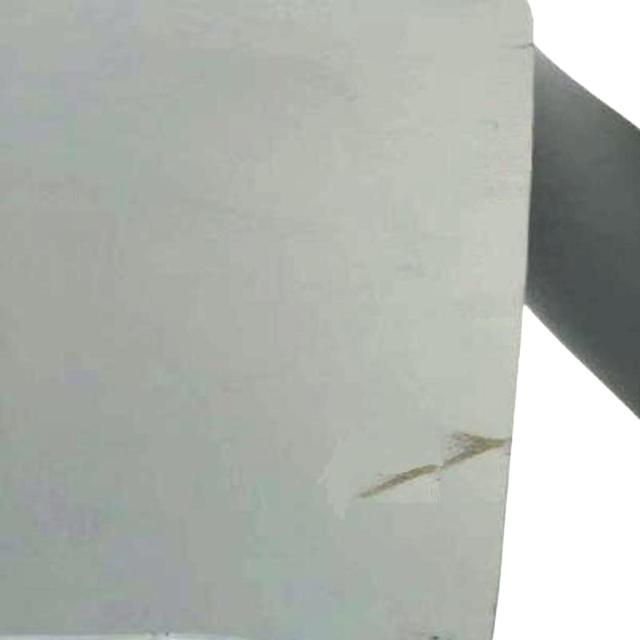crack: (366, 437, 509, 496)
